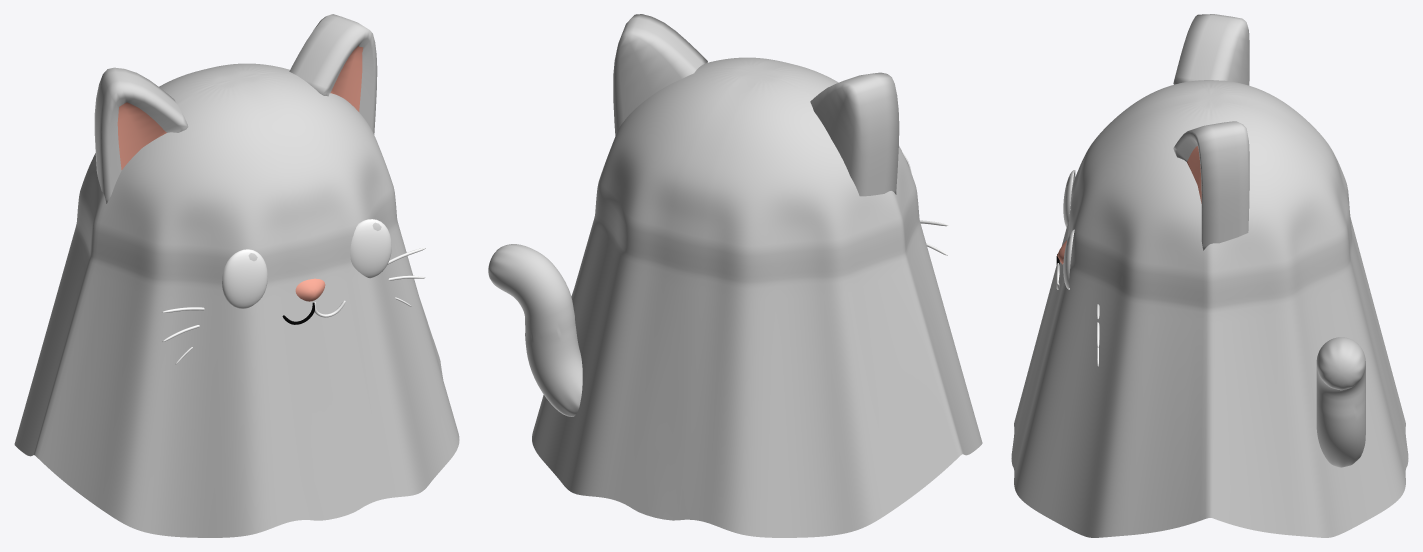
Rendered from catcat.fbx.
3 renders of one model, left to right at view 1: azimuth 30°, elevation 25°; view 2: azimuth 150°, elevation 25°; view 3: azimuth 270°, elevation 25°, orthographic. The views are drawn at different scales.
Parts seen in each view (by area): view 1: 对象003; view 2: 对象003; view 3: 对象003.
Part boxes in pixels (<box>): 对象003: <box>14,14,459,537</box>; 对象003: <box>488,14,982,537</box>; 对象003: <box>1011,14,1408,537</box>.
Size of the model in its own units: 786 by 744 by 678.
